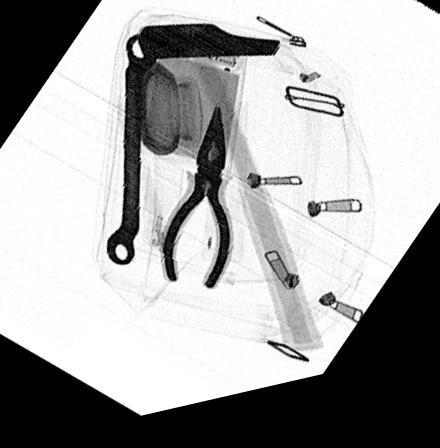Hammer: (136, 30, 323, 365)
Pliers: (161, 110, 232, 299)
Powerbank: (144, 31, 246, 183)
Wrench: (103, 36, 160, 272)
